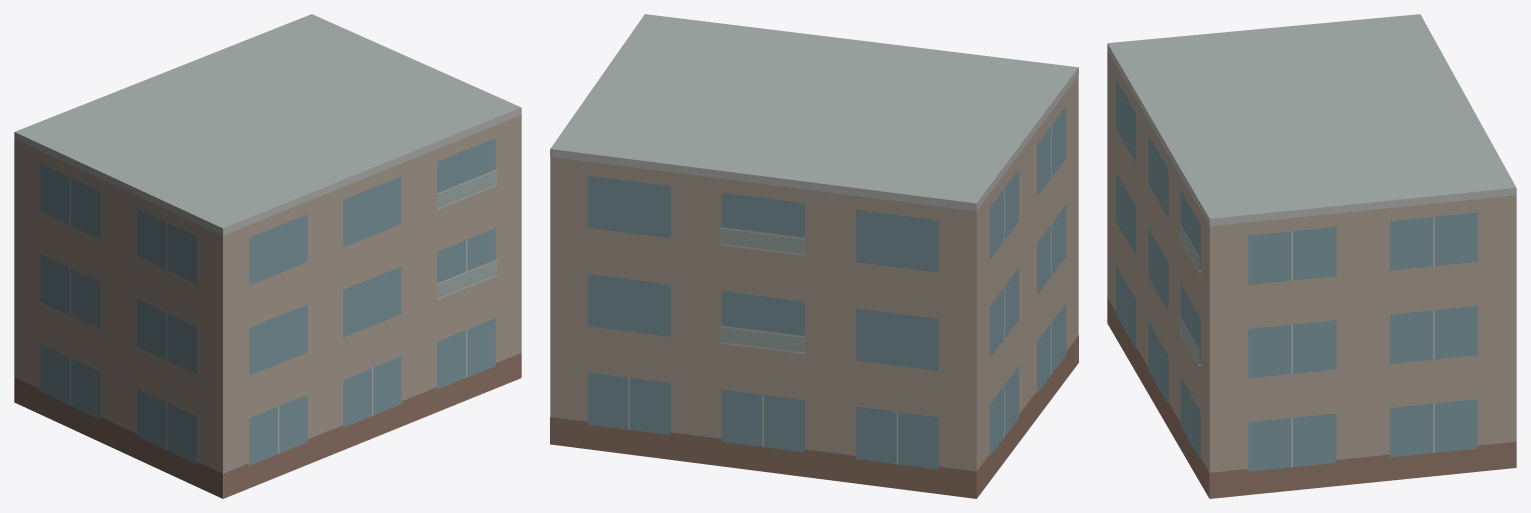
Rendered from survey-upis-32646194.glb.
3 views of the same model, side by side, from view 1: azimuth 30°, elevation 25°; view 2: azimuth 150°, elevation 25°; view 3: azimuth 270°, elevation 25° (orthographic). The views are drawn at different scales.
Visible parts, largest first — view 1: survey-upis-32646194.tmp; view 2: survey-upis-32646194.tmp; view 3: survey-upis-32646194.tmp.
Boxes of the visible parts, box(x1,y1,x2,y2) form: survey-upis-32646194.tmp: box(14, 14, 521, 498); survey-upis-32646194.tmp: box(550, 14, 1078, 498); survey-upis-32646194.tmp: box(1107, 14, 1516, 498).
Size of the model in its own units: 14.37 by 9.15 by 12.13.
